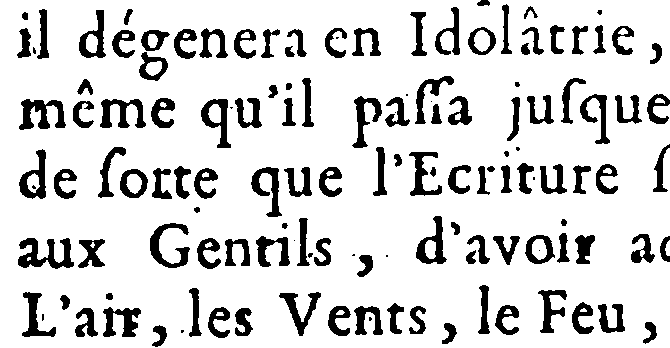o: (115, 164, 151, 203), (466, 20, 501, 60), (526, 231, 555, 265)
